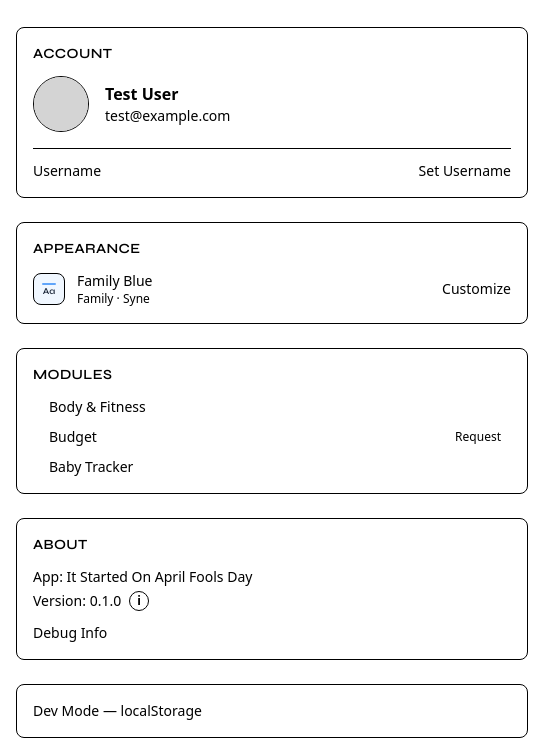
Test: ProfilePage › renders color mode picker with three options after expanding
The image size is (545, 743).
What coordinates should you click on to do the following:
click the button "Customize"
I would click on:
 (477, 289)
Its box is [442, 279, 511, 299].
(page scrolled)
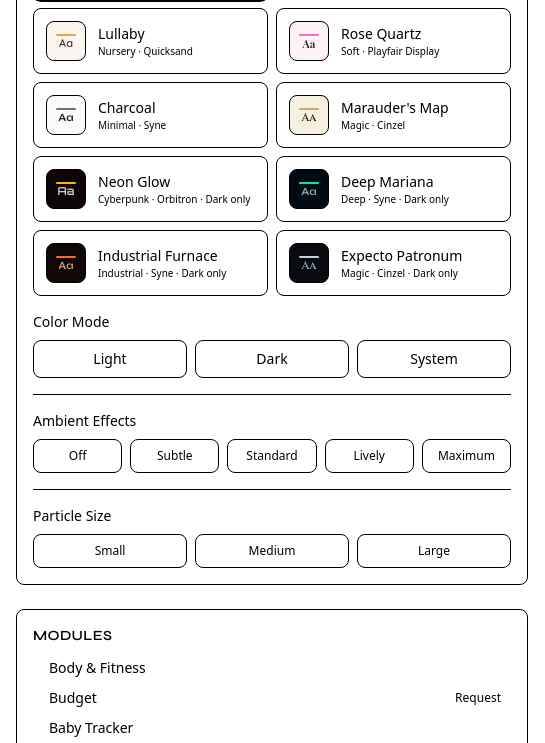
Now the button "Light" is shown, box [33, 340, 187, 378]
Now the button "Dark" is shown, box [195, 340, 349, 378]
Now the button "System" is shown, box [357, 340, 511, 378]
